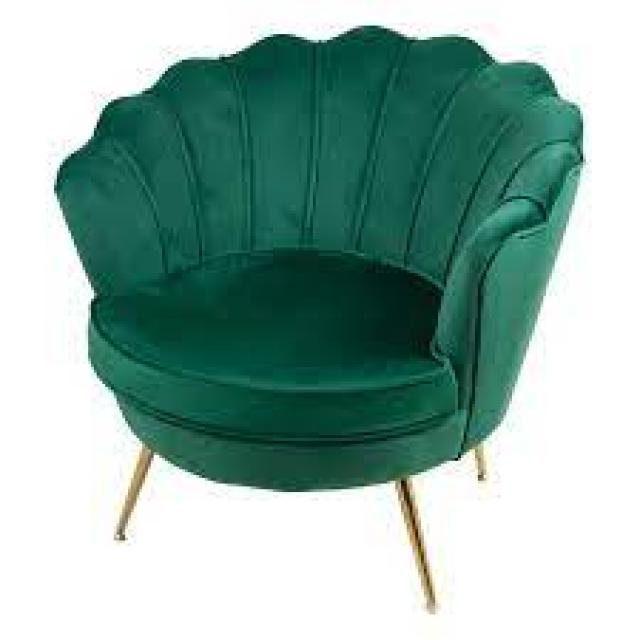chair: (0, 5, 639, 640)
